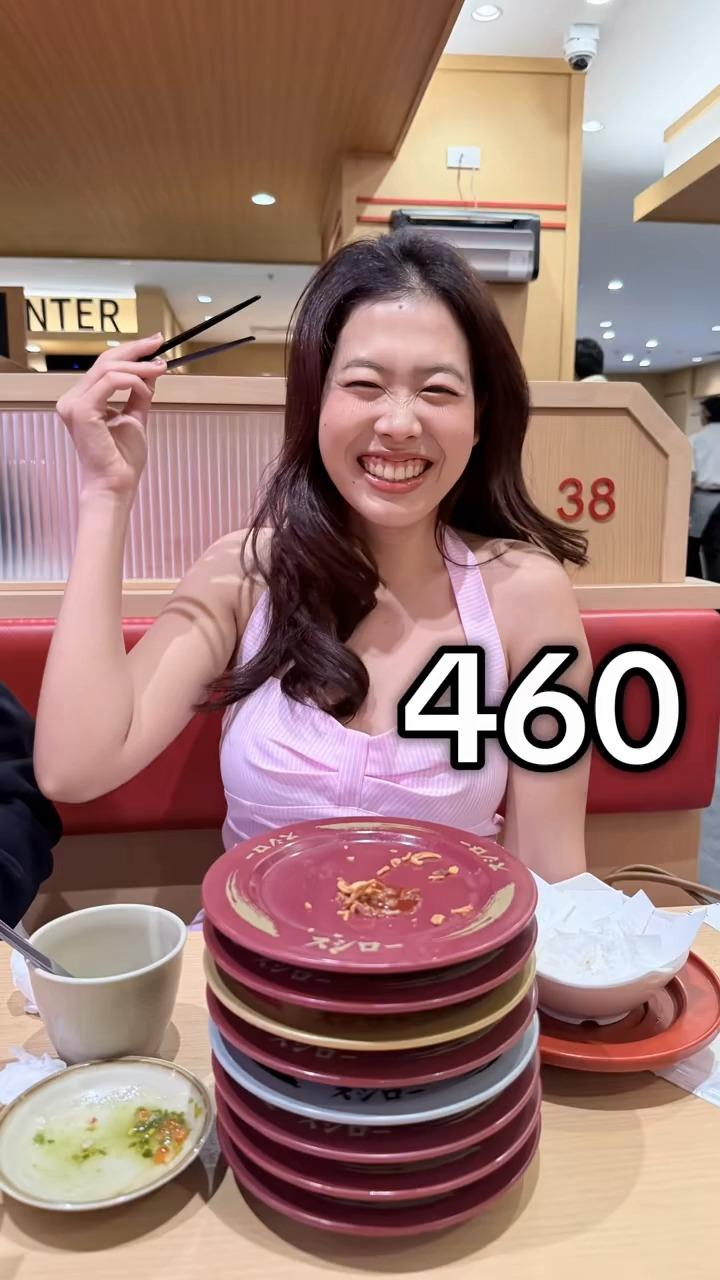Jangold: (277, 1012, 493, 1038)
Janred: (189, 833, 532, 959), (215, 966, 491, 1002), (297, 1204, 475, 1237), (253, 1053, 486, 1078), (280, 1169, 474, 1199), (269, 1132, 484, 1153)
Janwhite: (255, 1081, 501, 1120)
